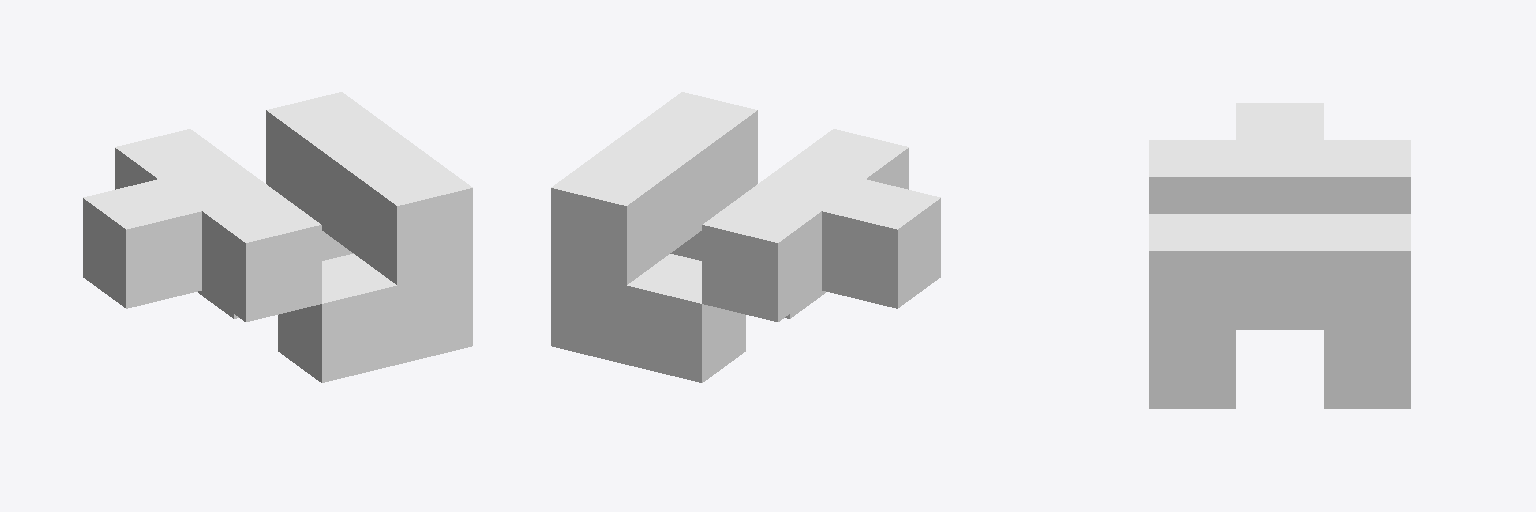
File: Leg-60.obj
3 views of the same model, side by side, from view 1: azimuth 30°, elevation 25°; view 2: azimuth 150°, elevation 25°; view 3: azimuth 270°, elevation 25° (orthographic).
Visible parts, largest first — view 1: object 1; view 2: object 1; view 3: object 1.
Part boxes in pixels (x1,y1,x2,y2): object 1: (83, 92, 472, 382); object 1: (551, 92, 940, 382); object 1: (1149, 103, 1410, 408).
Bounding box in the file's own units: 0.4 × 0.2 × 0.3.